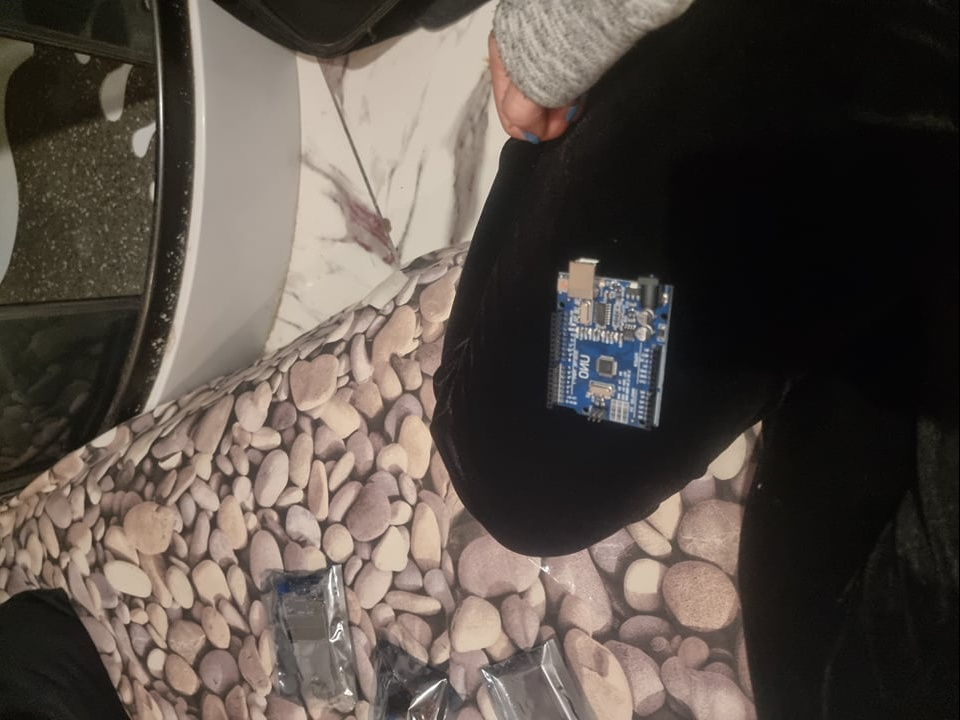UNO R3: (544, 257, 678, 433)
